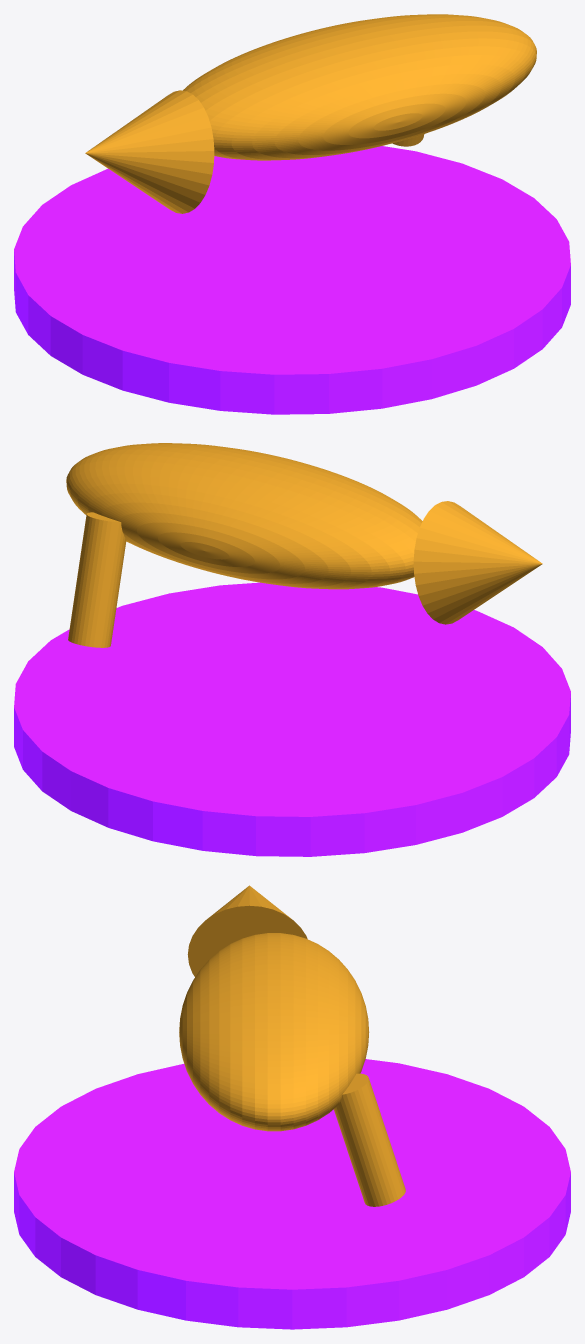
The model's file is modelling_high_heel.dae.
3 views of the same model, one above another, from view 1: azimuth 30°, elevation 25°; view 2: azimuth 150°, elevation 25°; view 3: azimuth 270°, elevation 25° (orthographic).
Parts seen in each view (by area): view 1: 05_09_Popular_Modelling_High_Heel_ROOT_base, 05_09_Popular_Modelling_High_Heel_part_01, 05_09_Popular_Modelling_High_Heel_part_03; view 2: 05_09_Popular_Modelling_High_Heel_ROOT_base, 05_09_Popular_Modelling_High_Heel_part_01, 05_09_Popular_Modelling_High_Heel_part_03, 05_09_Popular_Modelling_High_Heel_part_02; view 3: 05_09_Popular_Modelling_High_Heel_ROOT_base, 05_09_Popular_Modelling_High_Heel_part_01, 05_09_Popular_Modelling_High_Heel_part_02, 05_09_Popular_Modelling_High_Heel_part_03.
Boxes of the visible parts, left/top/right/bottom form: 05_09_Popular_Modelling_High_Heel_ROOT_base: left=14, top=146, right=570, bottom=414; 05_09_Popular_Modelling_High_Heel_part_01: left=183, top=14, right=536, bottom=160; 05_09_Popular_Modelling_High_Heel_part_03: left=85, top=90, right=214, bottom=213; 05_09_Popular_Modelling_High_Heel_ROOT_base: left=14, top=582, right=570, bottom=856; 05_09_Popular_Modelling_High_Heel_part_01: left=66, top=443, right=422, bottom=589; 05_09_Popular_Modelling_High_Heel_part_03: left=413, top=501, right=542, bottom=624; 05_09_Popular_Modelling_High_Heel_part_02: left=68, top=512, right=126, bottom=647; 05_09_Popular_Modelling_High_Heel_ROOT_base: left=14, top=1059, right=570, bottom=1329; 05_09_Popular_Modelling_High_Heel_part_01: left=179, top=933, right=369, bottom=1131; 05_09_Popular_Modelling_High_Heel_part_02: left=334, top=1073, right=405, bottom=1206; 05_09_Popular_Modelling_High_Heel_part_03: left=187, top=885, right=307, bottom=976.
Bounding box in the file's own units: 0.76 × 0.3774 × 0.76.
